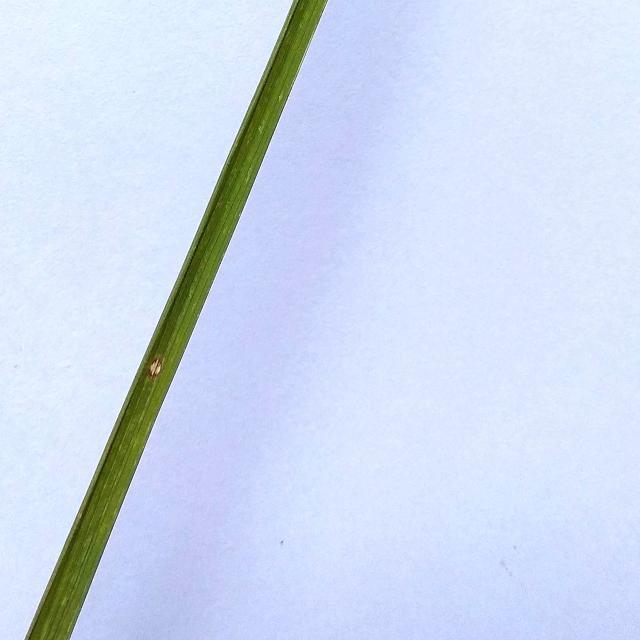Blast: (144, 358, 167, 378)
